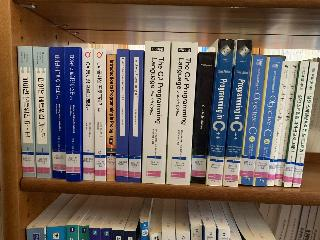book-spine: (164, 41, 198, 185), (205, 38, 235, 186), (223, 39, 253, 187), (140, 41, 171, 184), (252, 56, 283, 188), (238, 54, 267, 186), (189, 51, 215, 184), (292, 61, 319, 188), (283, 61, 309, 188), (274, 61, 299, 186), (266, 60, 290, 186), (32, 46, 51, 178), (64, 47, 82, 181), (18, 45, 36, 178), (127, 49, 144, 183), (50, 47, 66, 179), (81, 48, 95, 181), (115, 49, 129, 182), (94, 49, 106, 181), (105, 54, 116, 181)
